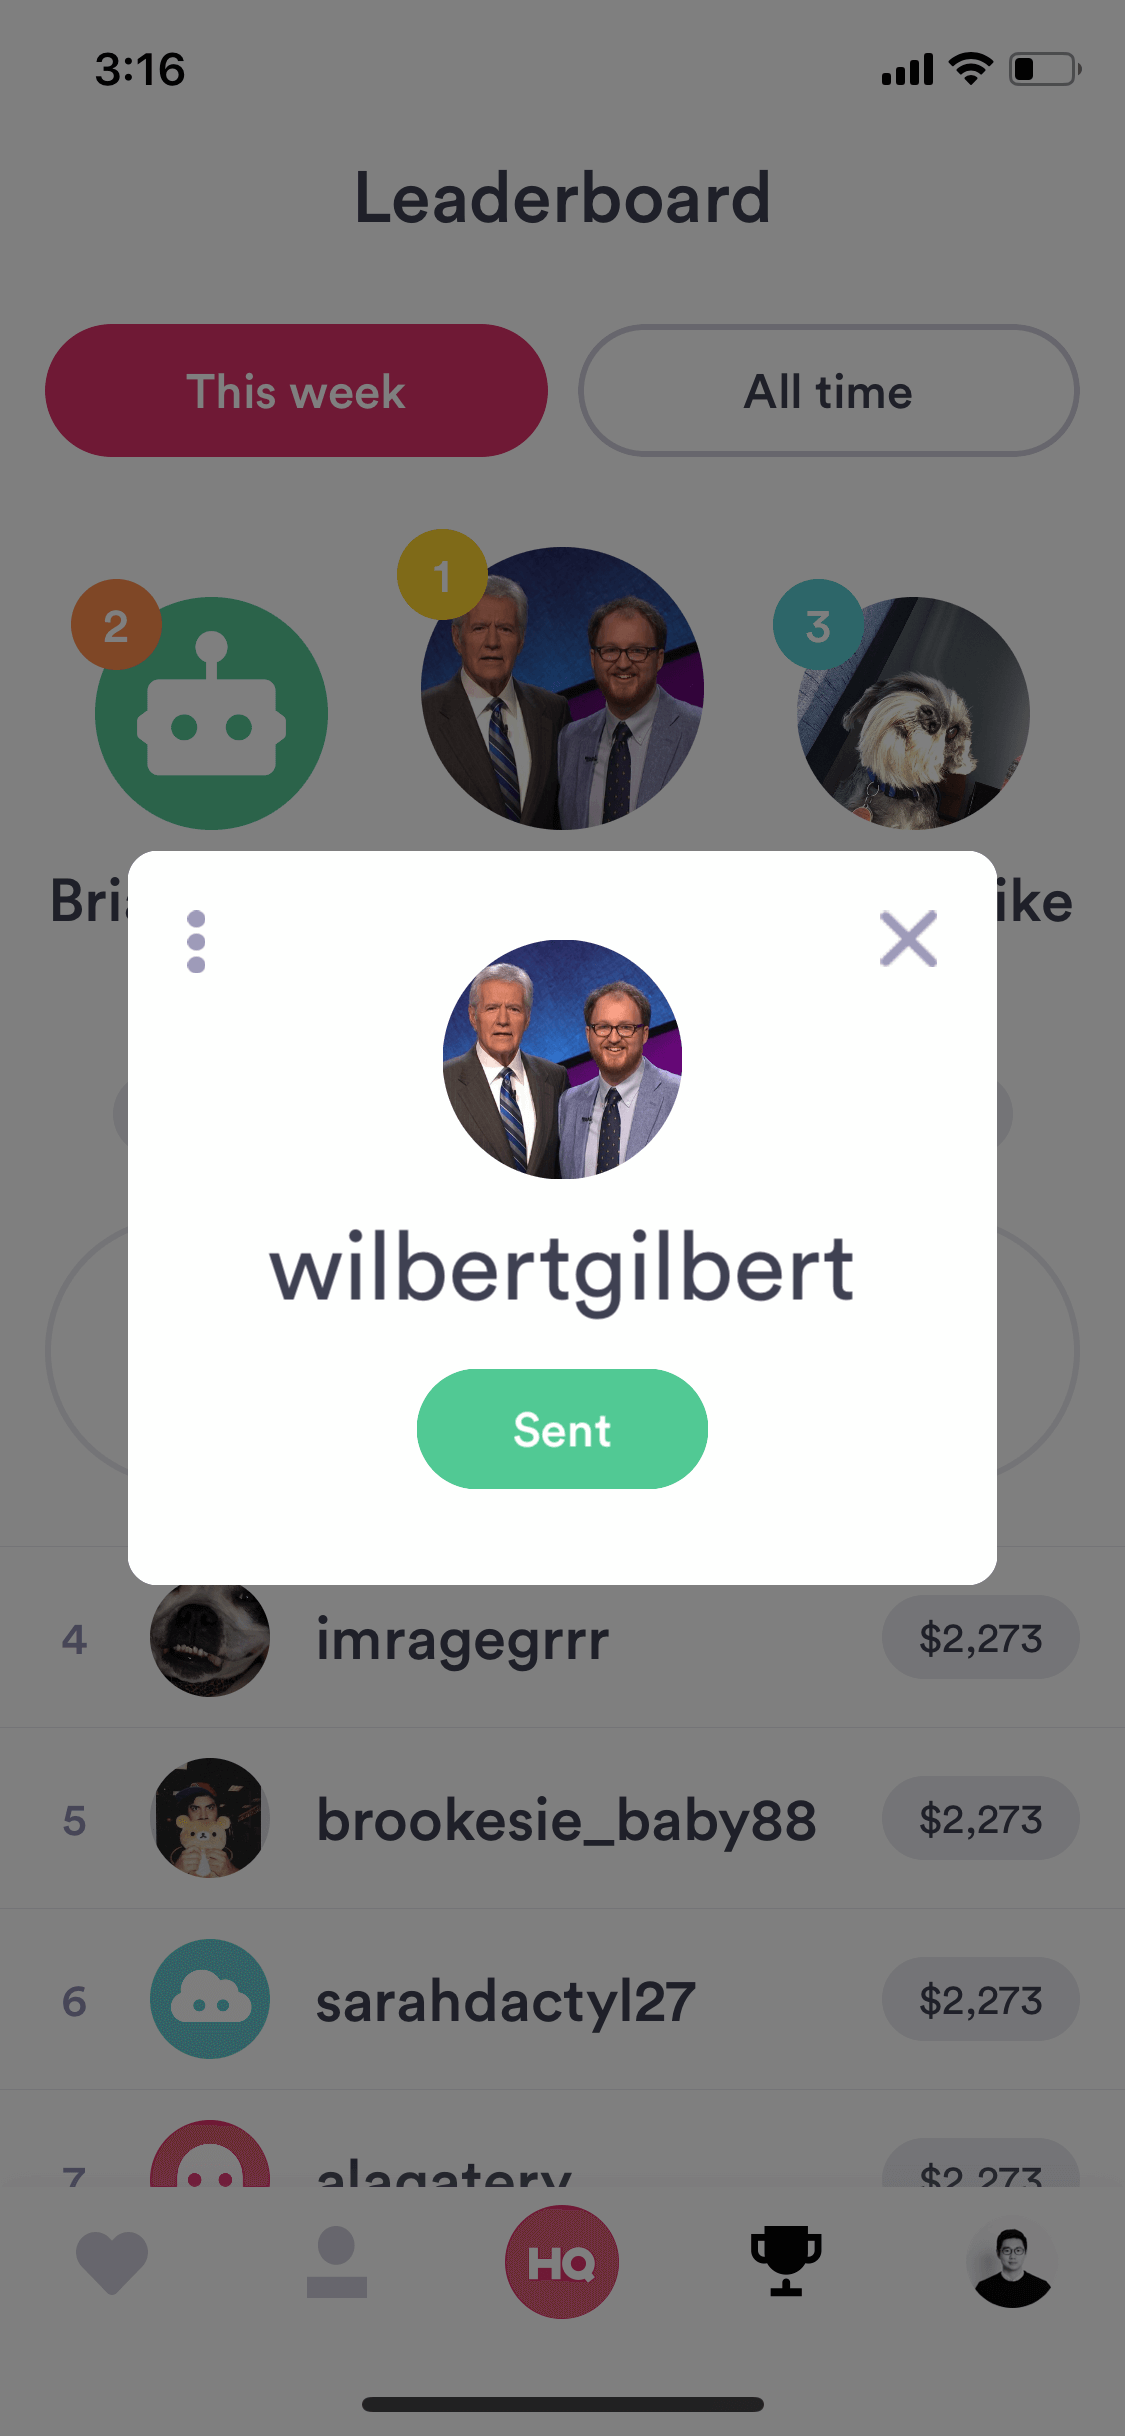Buttons: (36, 309, 555, 468), (576, 315, 1085, 469), (399, 1359, 719, 1498), (145, 878, 253, 987), (850, 886, 960, 987)
